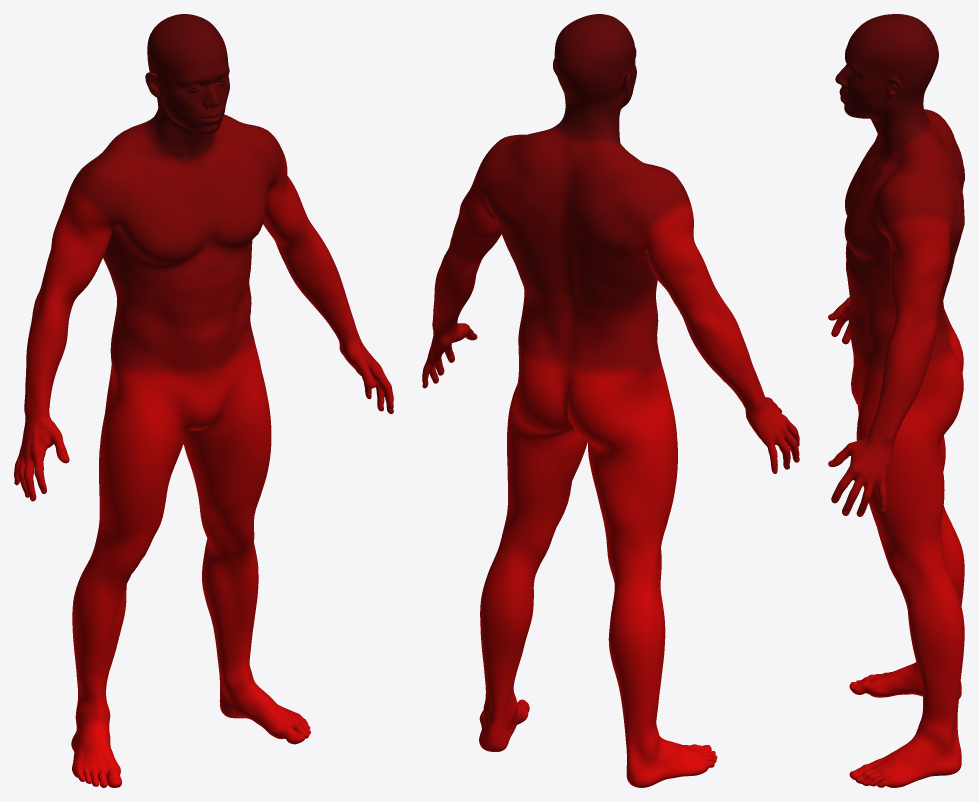
File: body_male.glb
3 renders of one model, left to right at view 1: azimuth 30°, elevation 25°; view 2: azimuth 150°, elevation 25°; view 3: azimuth 270°, elevation 25°, orthographic.
Parts seen in each view (by area): view 1: GEO-body_male_realistic; view 2: GEO-body_male_realistic; view 3: GEO-body_male_realistic.
Part boxes in pixels (x1,y1,x2,y2): GEO-body_male_realistic: (14,14,393,787); GEO-body_male_realistic: (422,14,799,787); GEO-body_male_realistic: (828,14,964,787).
Size of the model in its own units: 0.8827 by 1.69 by 0.2911.
